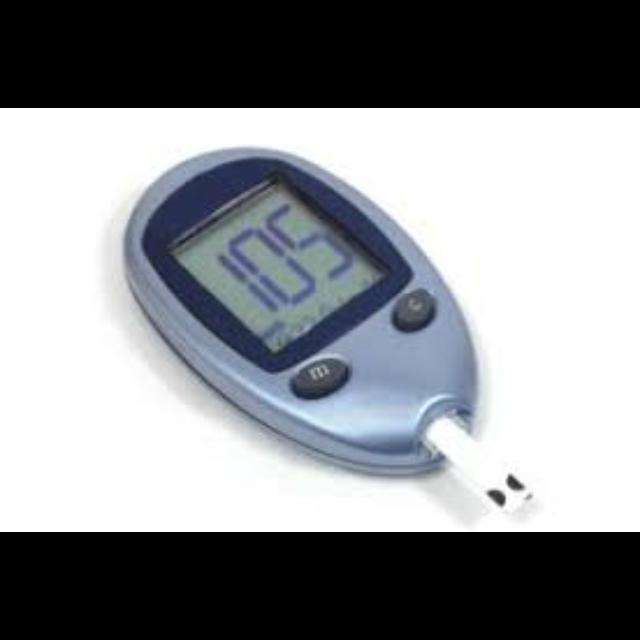Glucose-Meter: (125, 148, 531, 511)
